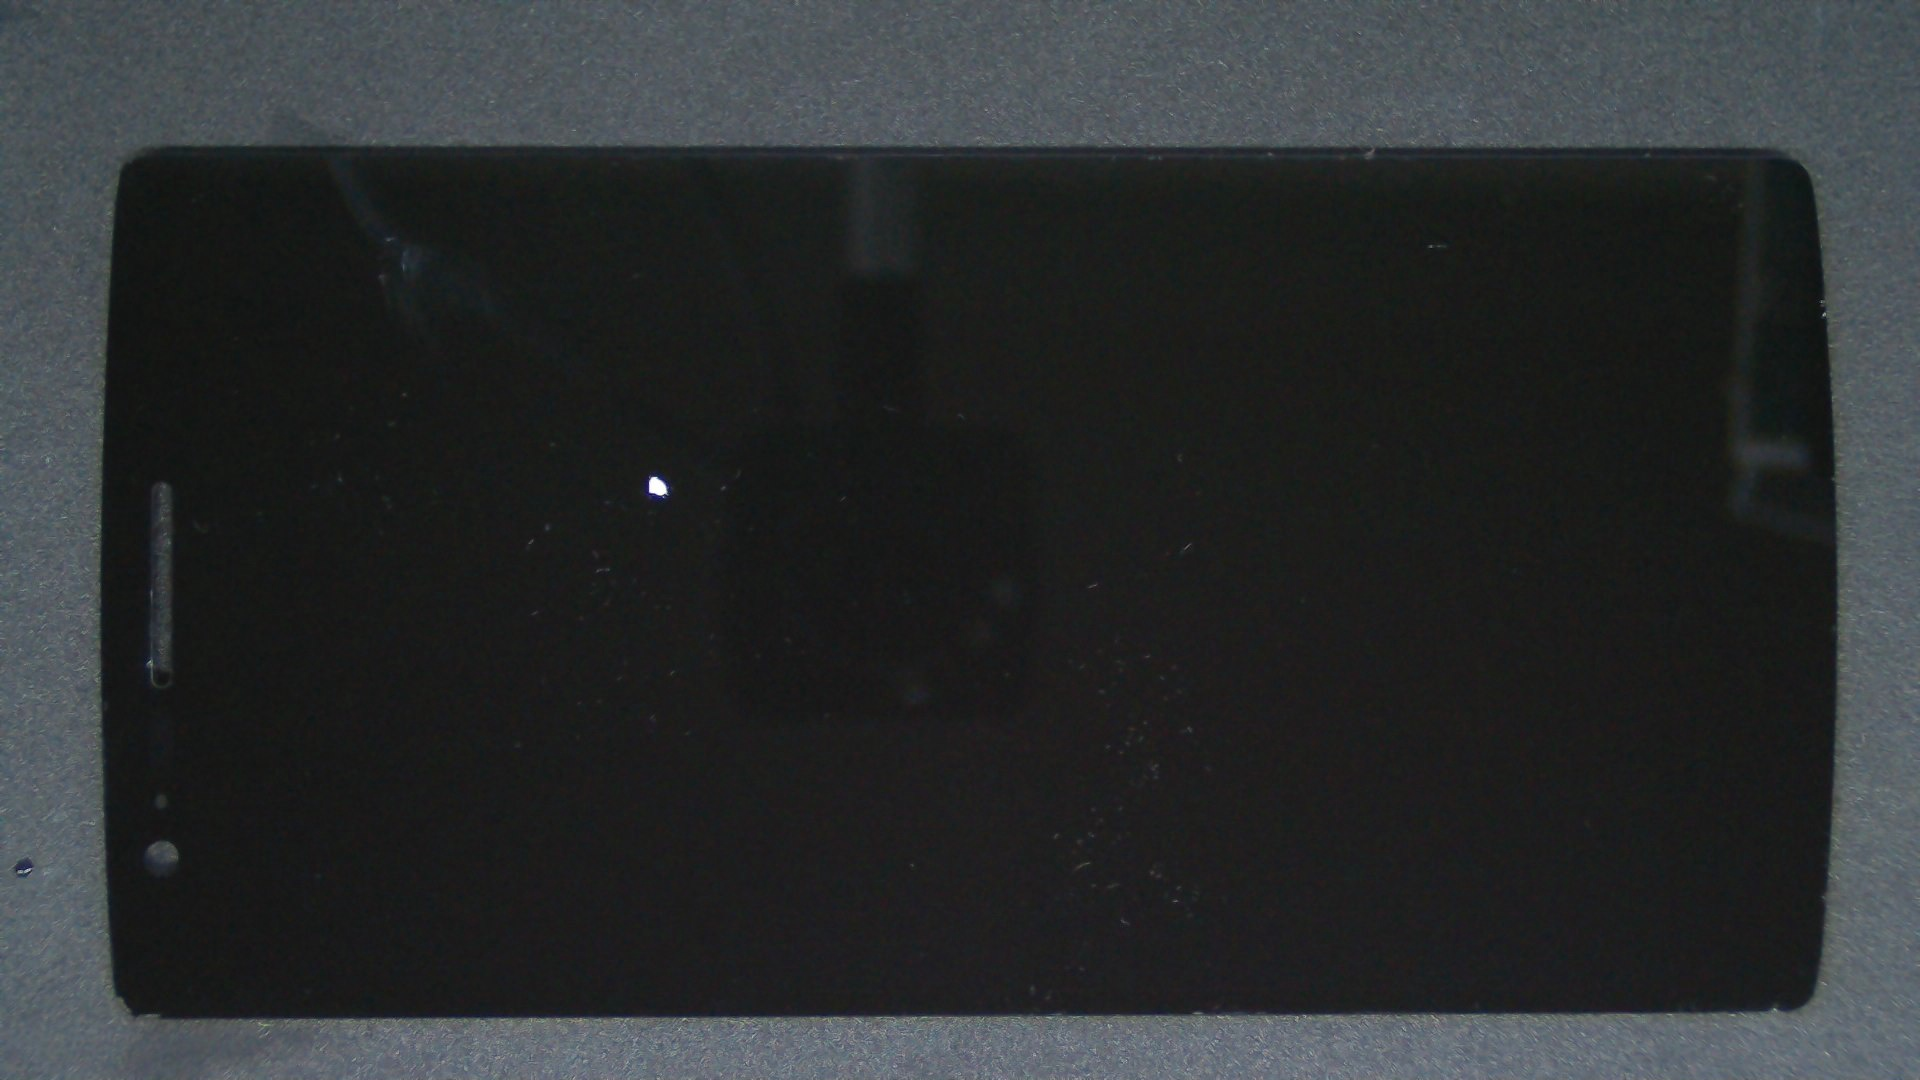oil: (328, 236, 985, 712)
